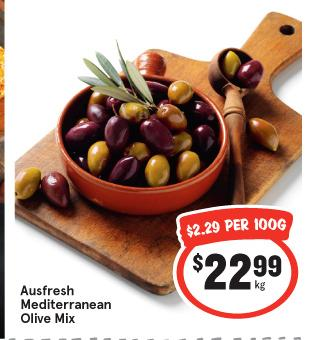description_block: (17, 276, 116, 333)
price_main: (174, 242, 304, 311)
product_image_block: (22, 38, 302, 217)
unit_price_block: (173, 211, 296, 241)
